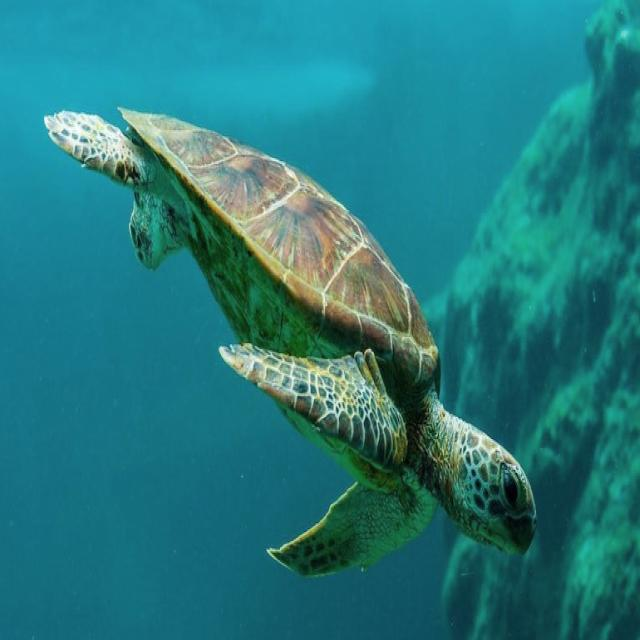turtle: (46, 108, 538, 575)
